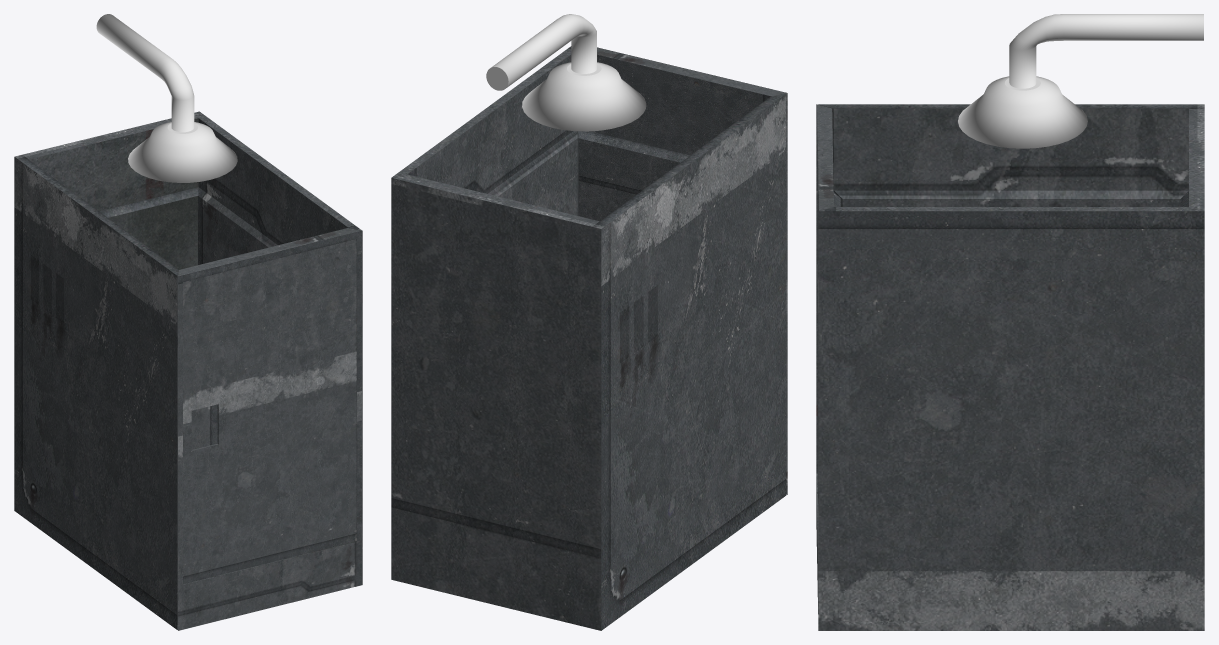
File: chuveiro.fbx
The picture shows the model from 3 angles, left to right: view 1: azimuth 30°, elevation 25°; view 2: azimuth 150°, elevation 25°; view 3: azimuth 270°, elevation 25°; orthographic projection. The views are drawn at different scales.
Visible parts, largest first — view 1: chuveiro, chuveiro porta, chuveiro cano; view 2: chuveiro, chuveiro porta, chuveiro cano; view 3: chuveiro, chuveiro cano, chuveiro porta.
Boxes of the visible parts, <box> form: chuveiro: <box>14,111,362,629</box>; chuveiro porta: <box>178,228,361,630</box>; chuveiro cano: <box>96,14,237,182</box>; chuveiro: <box>391,46,786,630</box>; chuveiro porta: <box>577,47,787,494</box>; chuveiro cano: <box>486,14,646,131</box>; chuveiro: <box>818,104,1204,630</box>; chuveiro cano: <box>958,14,1203,148</box>; chuveiro porta: <box>816,104,840,613</box>.
Size of the model in its own units: 94.54 by 231 by 145.
